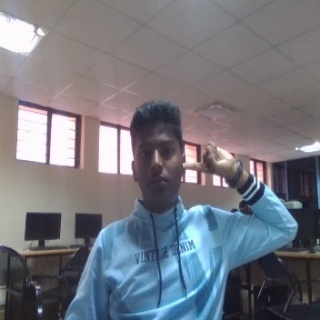Deaf: (183, 141, 237, 177)
Face: (128, 99, 186, 210)
